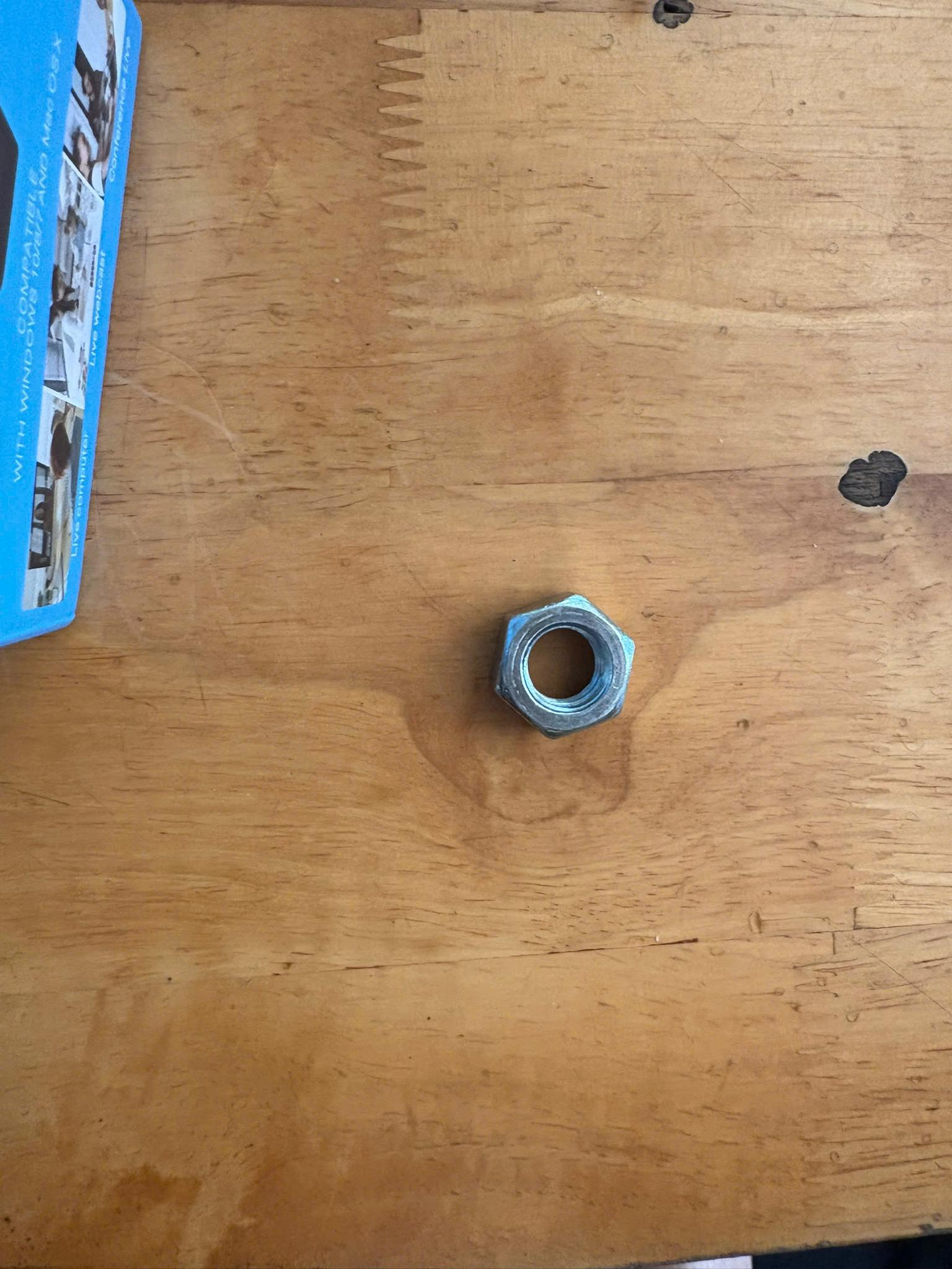nut: (469, 571, 651, 748)
